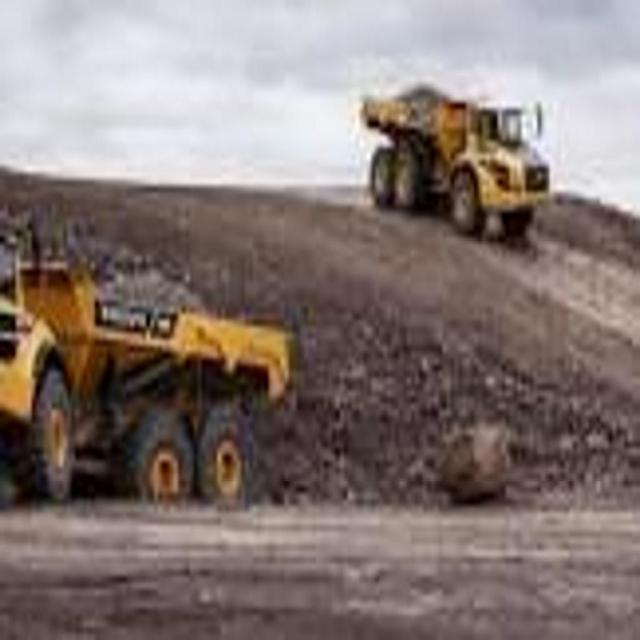dump_truck: (0, 226, 311, 524), (359, 60, 560, 262)
